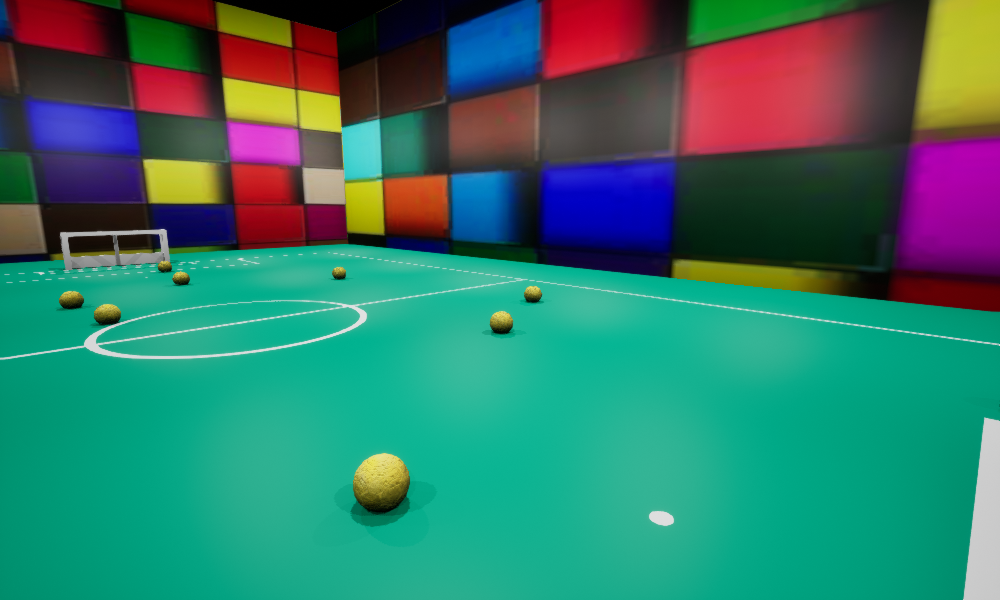b: (353, 453, 409, 511), (94, 304, 120, 324), (490, 311, 512, 333), (59, 291, 83, 308), (524, 286, 541, 301), (172, 271, 189, 283), (332, 267, 345, 278), (157, 261, 171, 271)
g: (60, 229, 169, 269)
